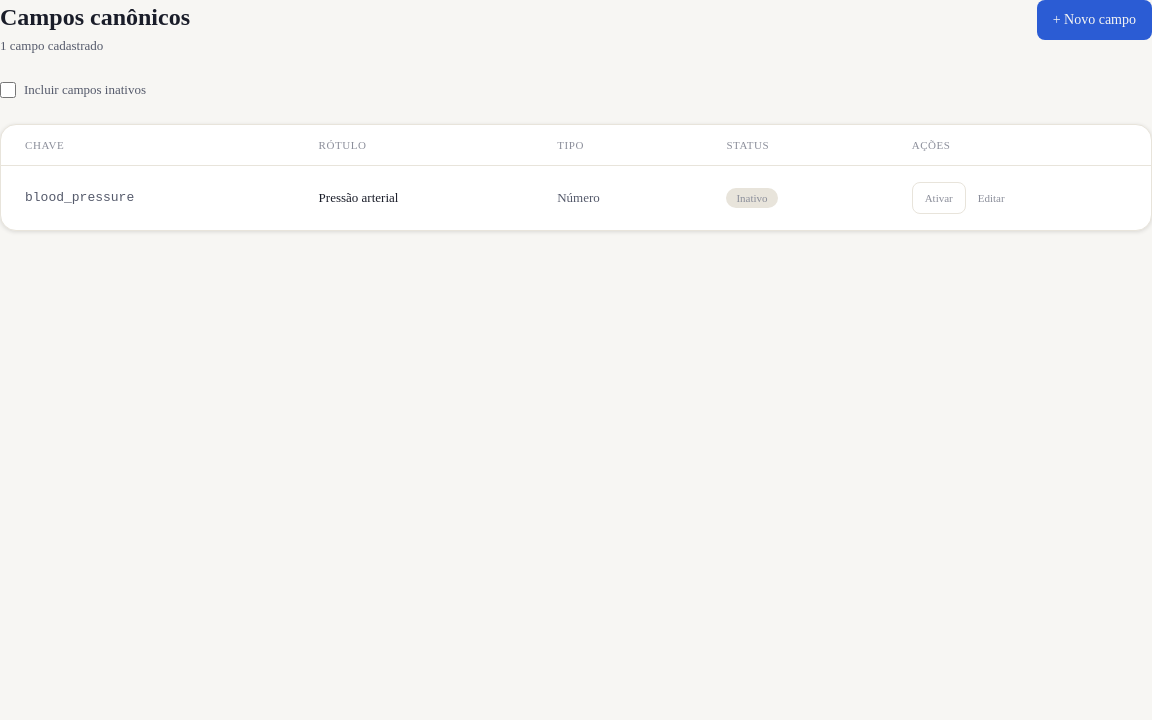
Test case: CanonicalFieldList (integration) › shows "ativado" success message when activating an inactive field
This screenshot has width=1152, height=720.
expect the table with test id "canonical-field-list-table" is shown: met, box [1,125,1151,230]
Click the button with test id "canonical-field-toggle-button-uuid-1": click(939, 198) [912,182,966,214]
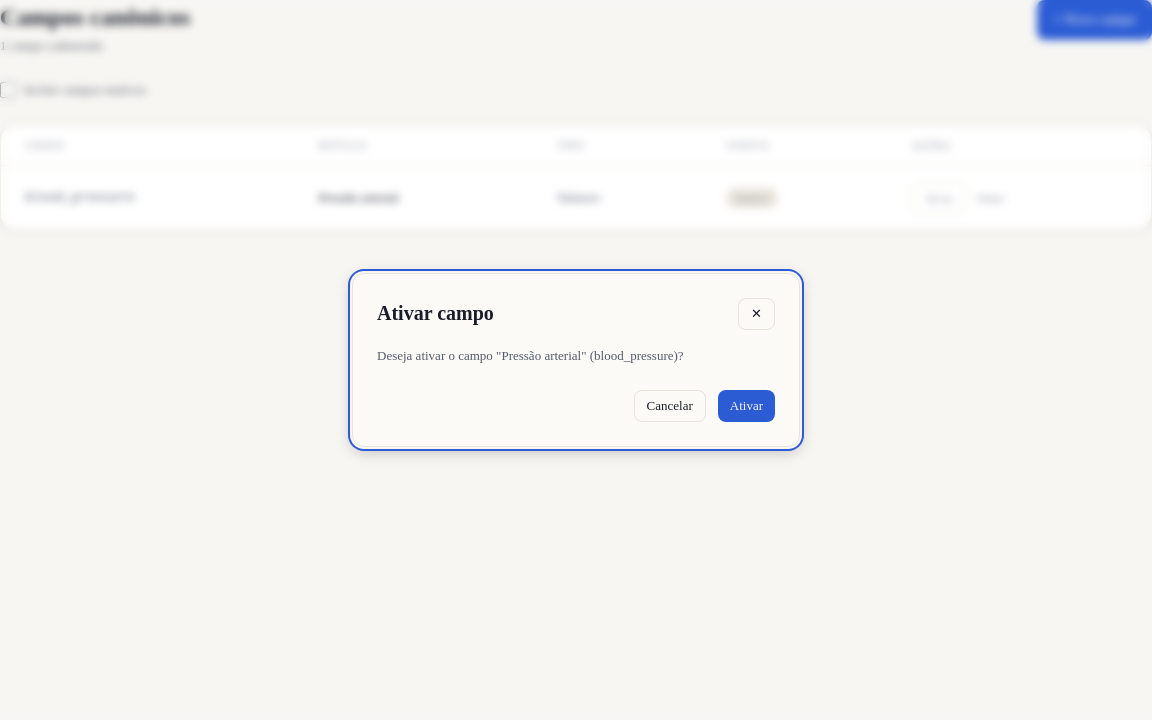
Click the button with test id "canonical-field-toggle-dialog-confirm": click(746, 406) [718,390,775,422]
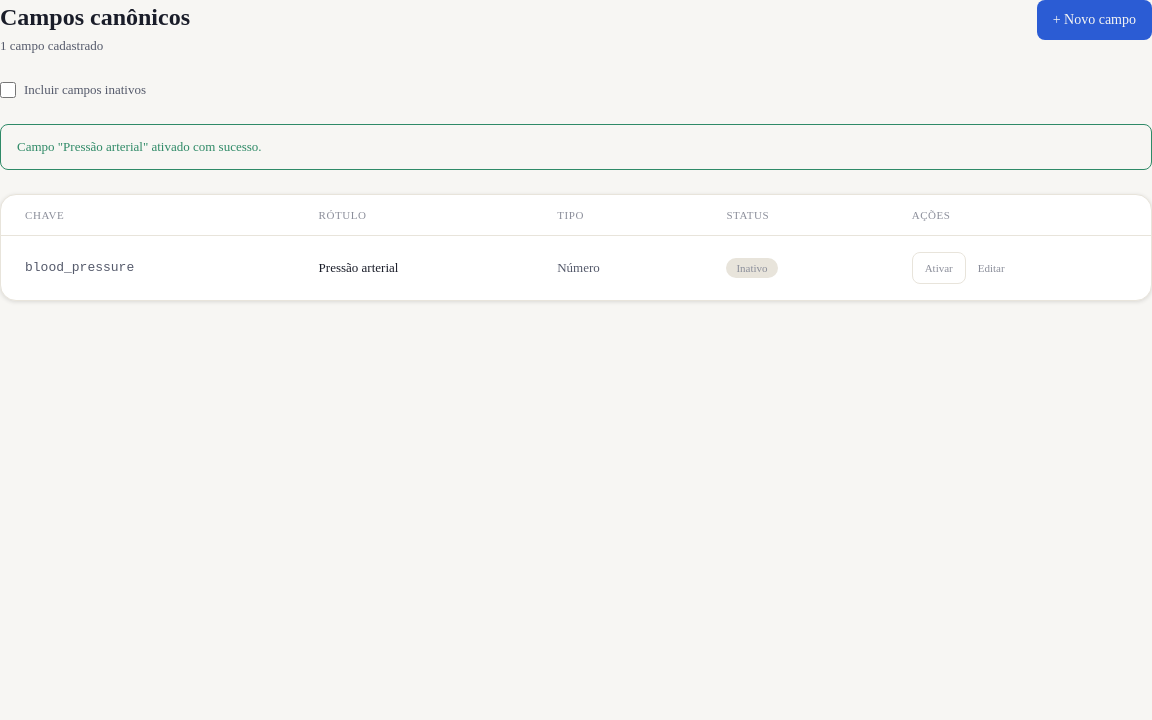
expect the message "Campo \"Pressão arterial\" ativado com sucesso." is shown: met, box [0,124,1151,170]
expect the message with test id "canonical-field-list-success" shows "ativado": met, box [17,139,262,154]
